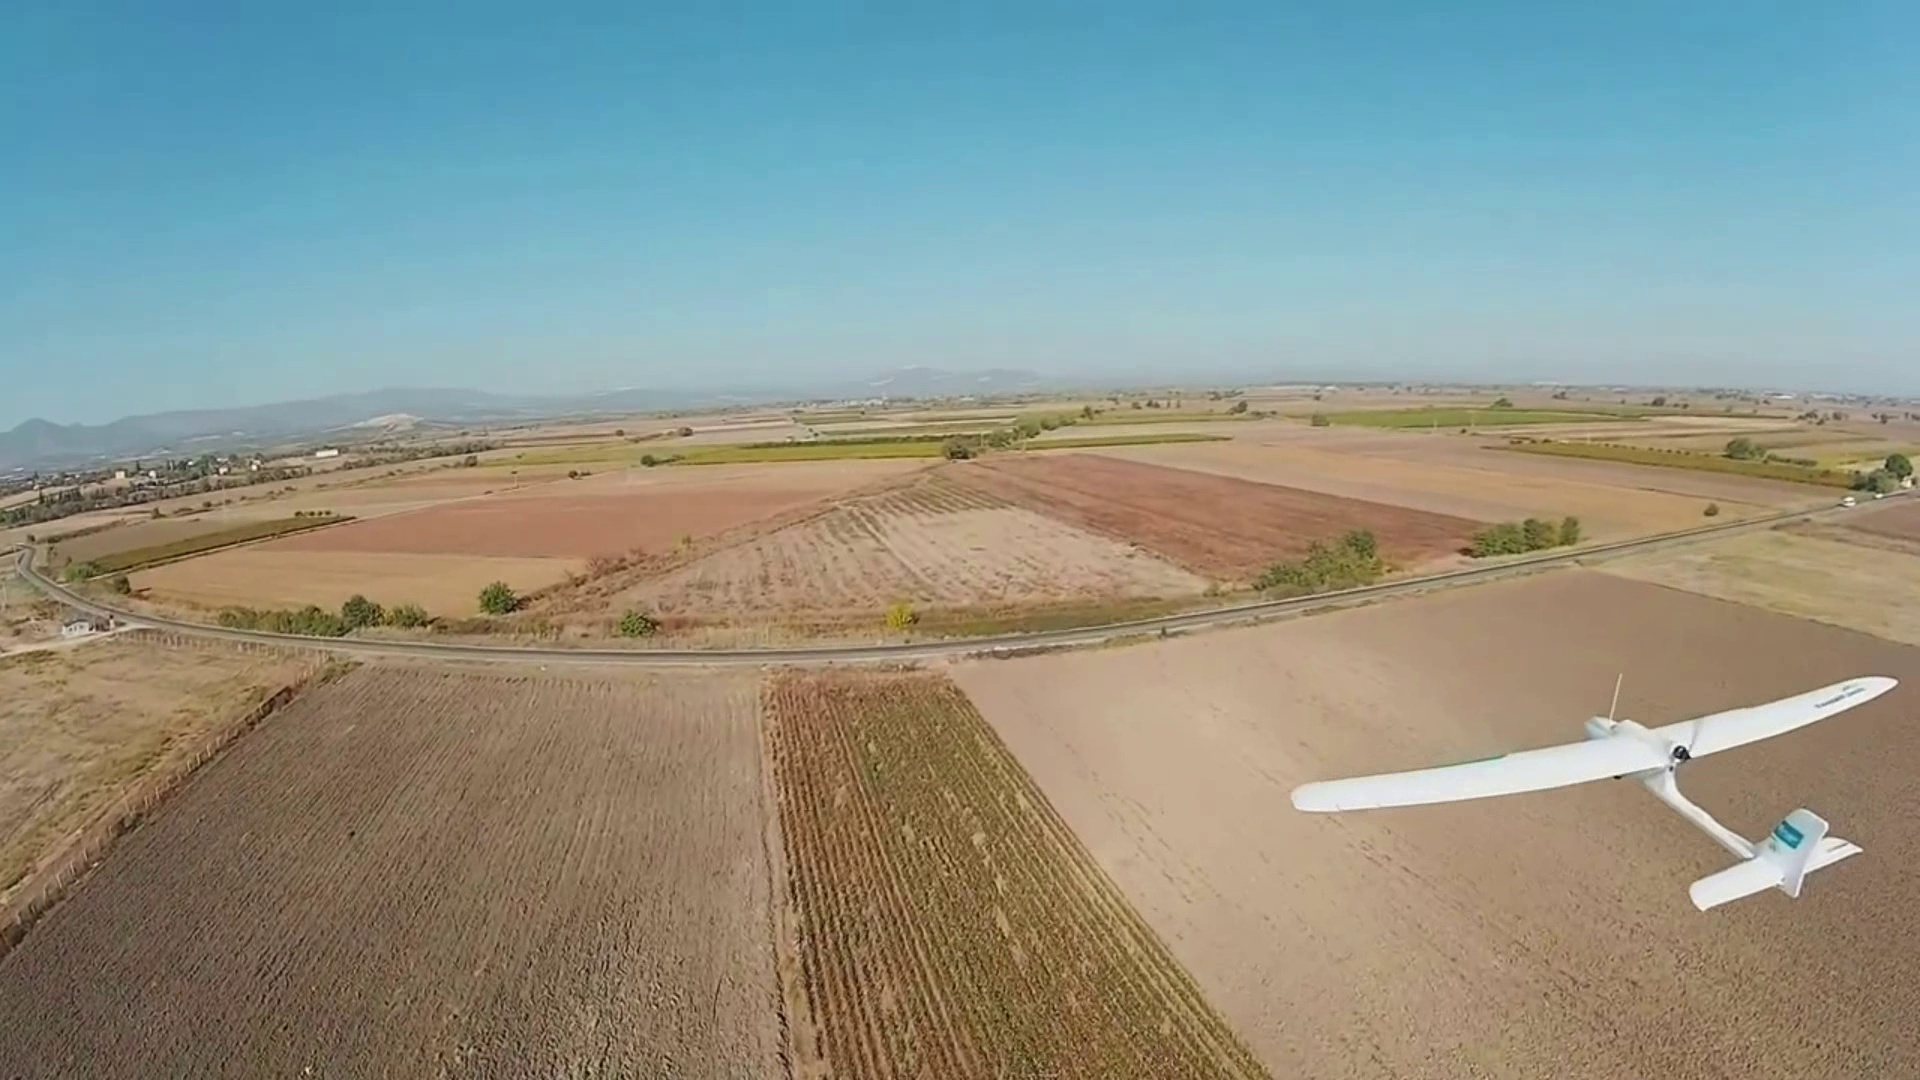airplane: (1289, 670, 1895, 911)
